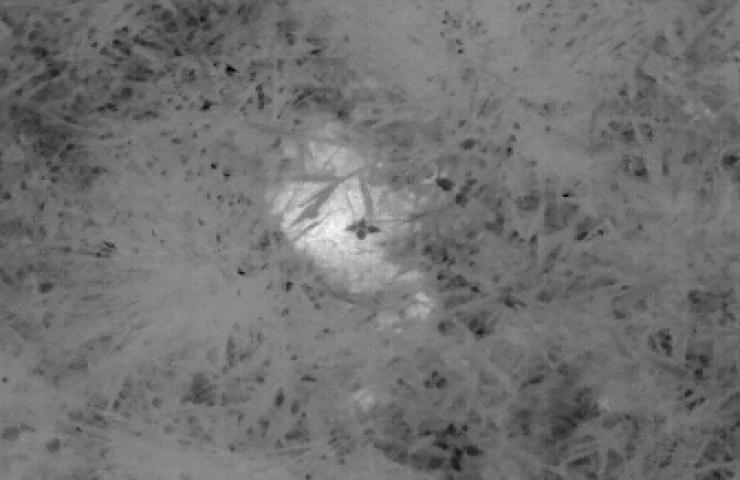landmines: (270, 121, 437, 296)
